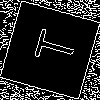T: (25, 25, 78, 67)
